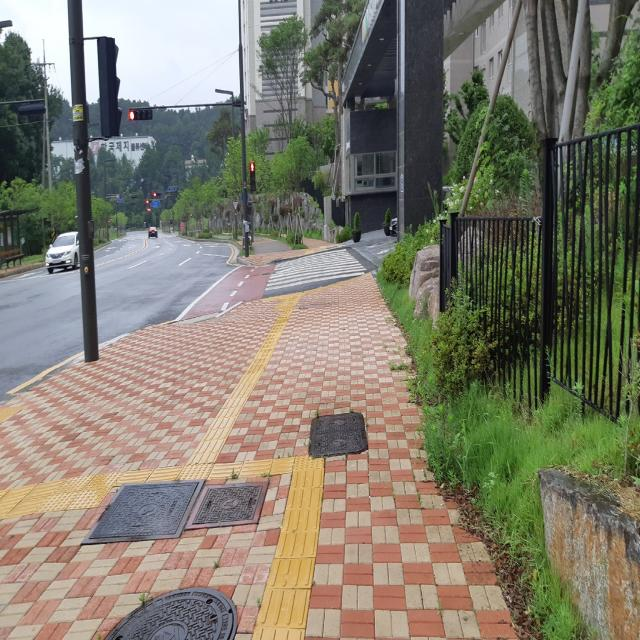빨간불: (251, 161, 257, 188)
횡단보도: (265, 248, 367, 291)
